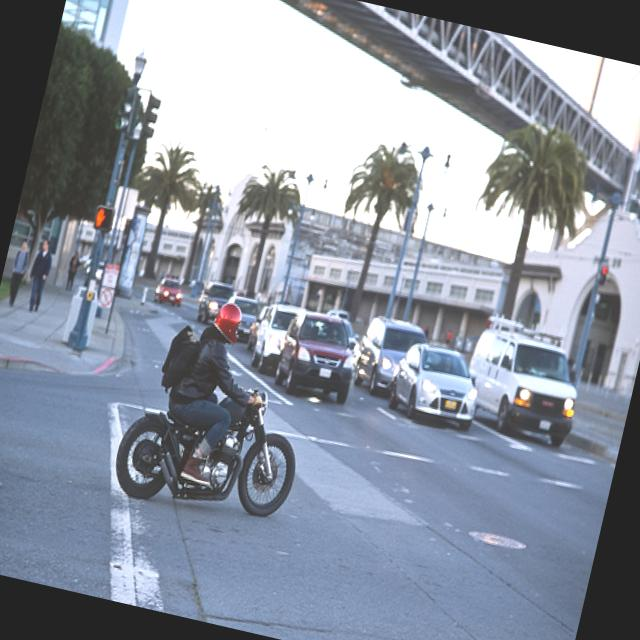Vehicle: (106, 362, 312, 536), (453, 312, 590, 457), (268, 301, 366, 412), (384, 332, 487, 434), (349, 312, 432, 405), (248, 298, 300, 378), (220, 294, 261, 346), (194, 278, 235, 328), (152, 275, 187, 309)
